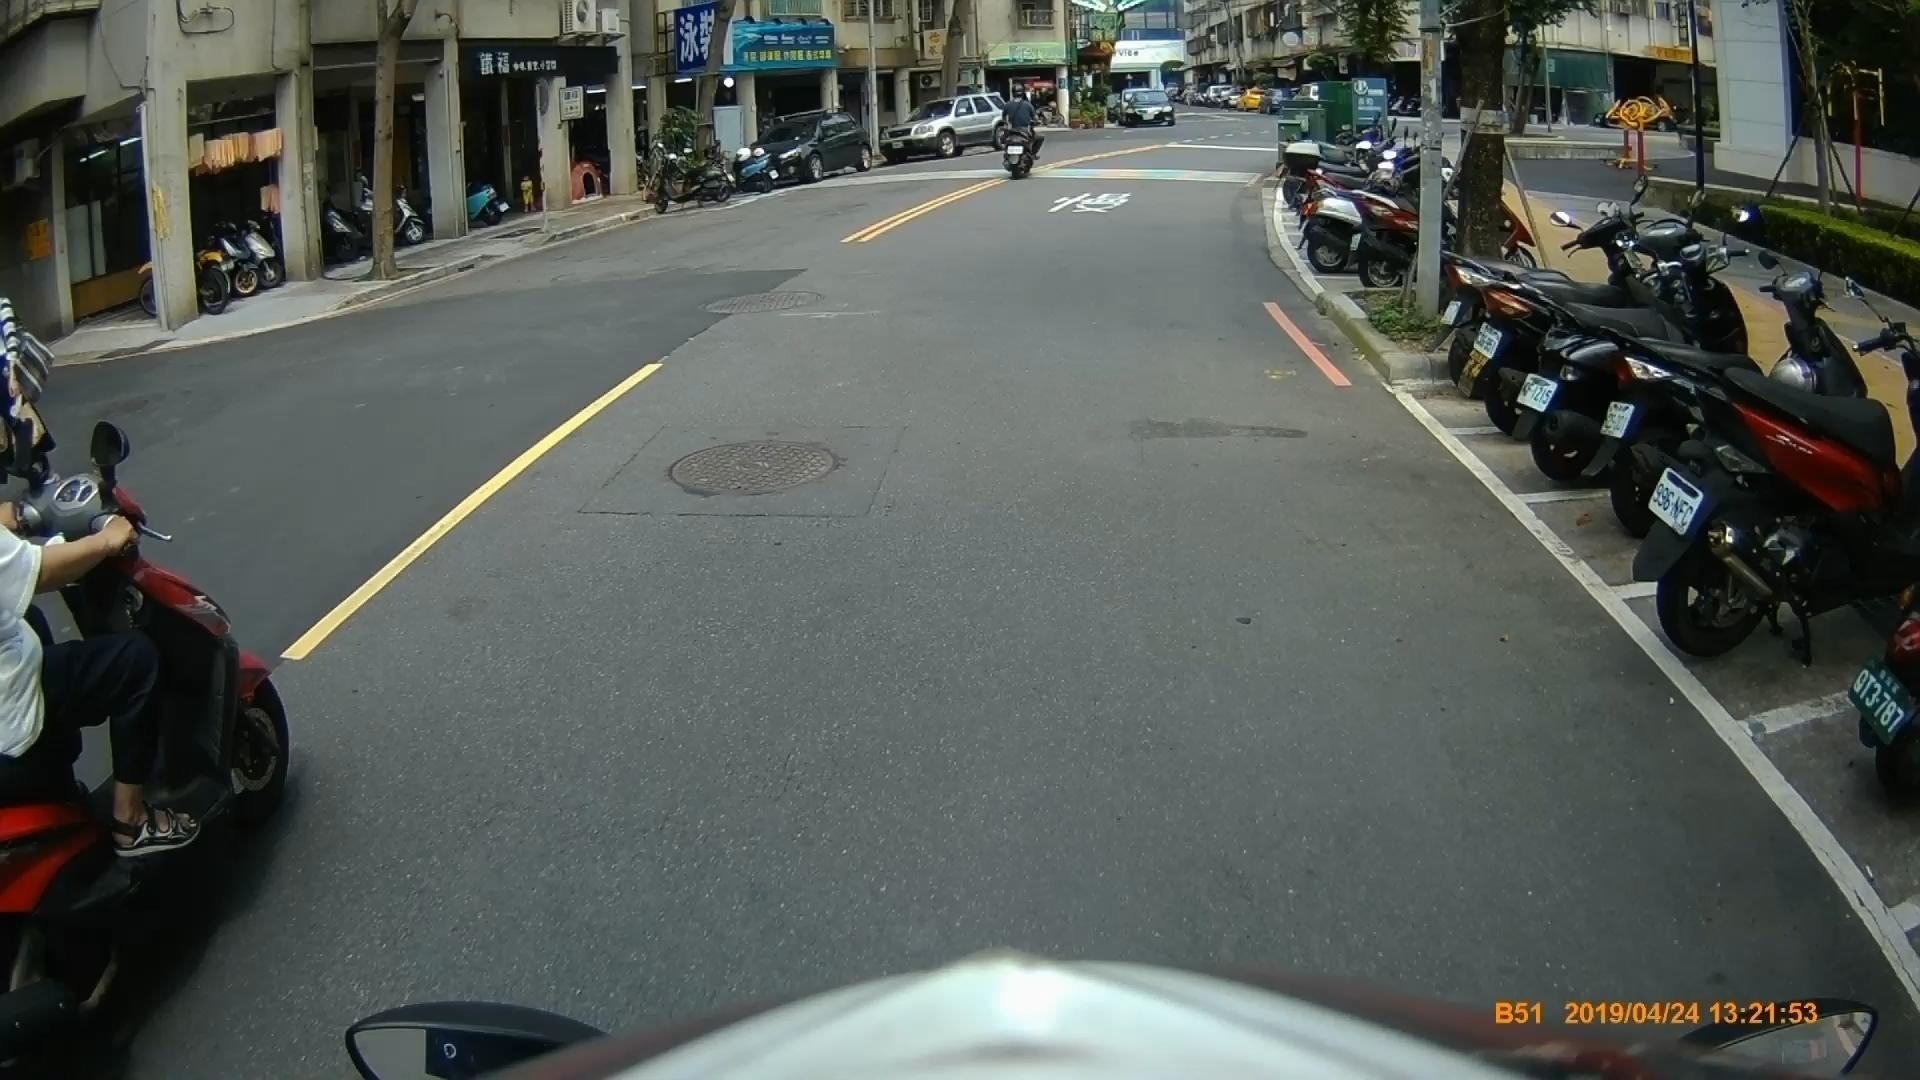License_plate: (1645, 466, 1703, 538), (1516, 372, 1557, 415), (1597, 398, 1632, 437), (1471, 322, 1503, 362)
